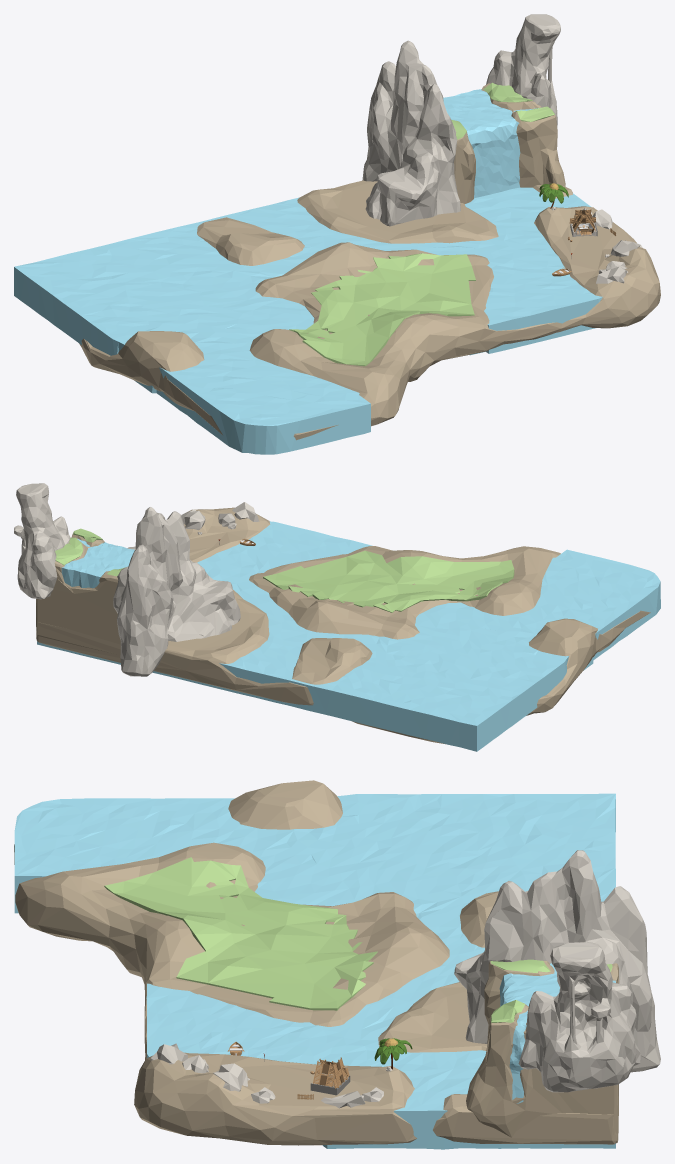
The picture shows the model from 3 angles, top to bottom: view 1: azimuth 30°, elevation 25°; view 2: azimuth 150°, elevation 25°; view 3: azimuth 270°, elevation 25°; orthographic projection. The views are drawn at different scales.
Parts seen in each view (by area): view 1: 平面, subtool1, subtool4, Grass0, 平面_4, subtool2, subtool3, external; view 2: 平面, subtool1, subtool4, Grass0, subtool2, subtool3, 平面_4, Grass4; view 3: 平面, subtool1, Grass0, subtool4, subtool3, subtool2, 平面_4, external, 平面_5, 球体_8, Grass1.
Boxes of the visible parts, x1,y1,x2,y2 form: 平面: (14,187,602,454); subtool1: (79,180,660,440); subtool4: (362,40,460,226); Grass0: (289,253,475,366); 平面_4: (443,89,520,198); subtool2: (454,83,565,203); subtool3: (486,14,560,125); external: (569,209,597,236); 平面: (37,521,660,751); subtool1: (36,507,650,744); subtool4: (113,507,240,676); Grass0: (263,550,514,612); subtool2: (36,534,120,653); subtool3: (14,483,70,599); 平面_4: (61,542,134,588); Grass4: (55,537,83,565); 平面: (14,793,615,1149); subtool1: (14,780,618,1145); Grass0: (104,857,377,1010); subtool4: (454,850,660,1072); subtool3: (518,942,641,1092); subtool2: (466,961,618,1137); 平面_4: (499,963,615,1006); external: (310,1057,350,1095); 平面_5: (509,1010,527,1103); 球体_8: (213,1063,247,1091); Grass1: (490,959,550,972).
Bounding box in the file's own units: 3860 × 1265 × 3084.
